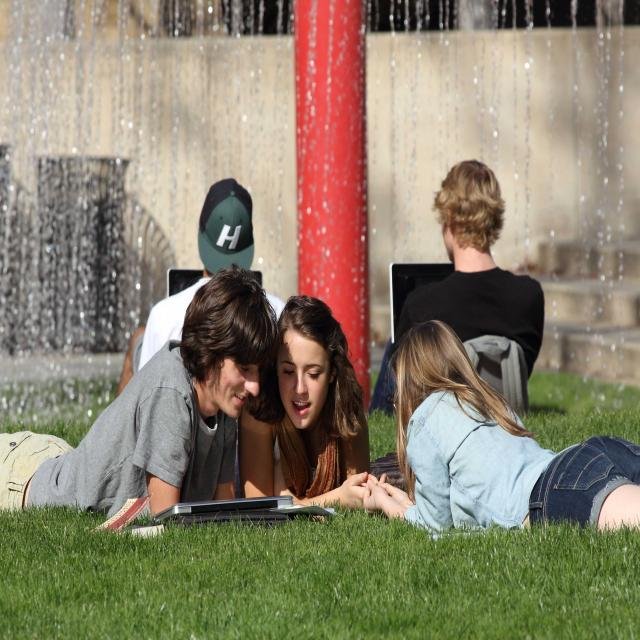body: (0, 262, 279, 529), (361, 318, 640, 542), (115, 175, 280, 488), (365, 156, 547, 429), (234, 292, 372, 510)
